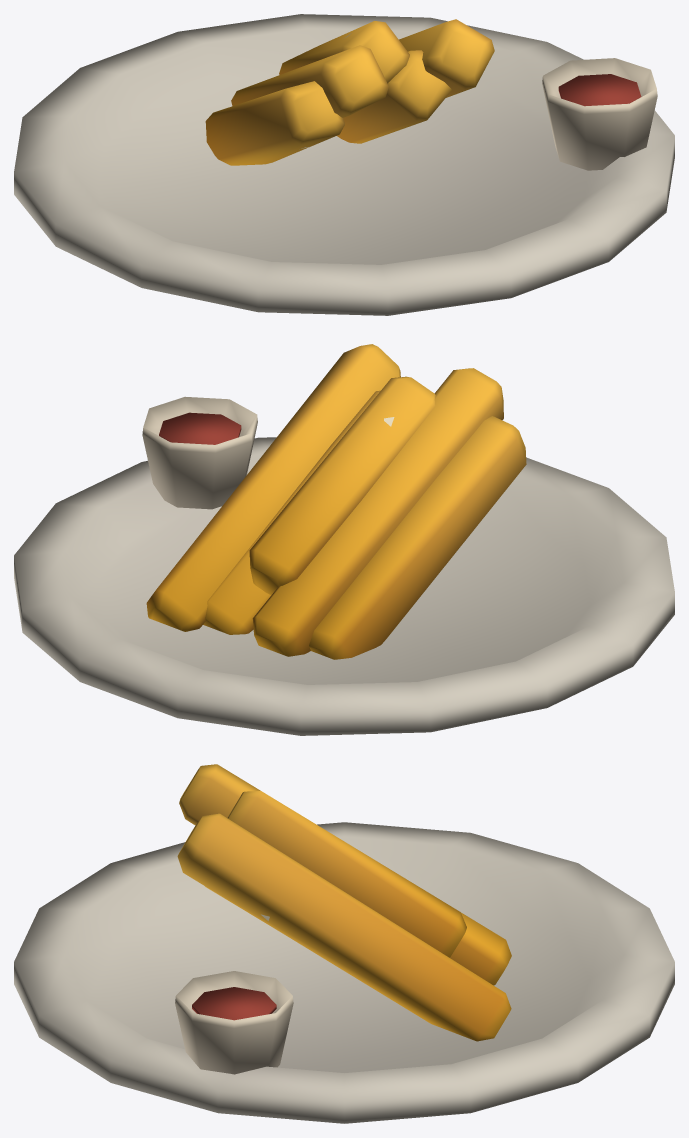
Rendered from fry_plate.glb.
The picture shows the model from 3 angles, top to bottom: view 1: azimuth 30°, elevation 25°; view 2: azimuth 150°, elevation 25°; view 3: azimuth 270°, elevation 25°; orthographic projection.
Visible parts, largest first — view 1: Carrier, Sticks; view 2: Carrier, Sticks; view 3: Carrier, Sticks.
Part boxes in pixels (x1=…): Carrier: x1=14, y1=14, x2=674, y2=315; Sticks: x1=205, y1=19, x2=494, y2=165; Carrier: x1=14, y1=396, x2=674, y2=735; Sticks: x1=146, y1=344, x2=526, y2=659; Carrier: x1=14, y1=822, x2=674, y2=1123; Sticks: x1=177, y1=764, x2=511, y2=1041.
Size of the model in its own units: 0.78 by 0.2815 by 0.78.
